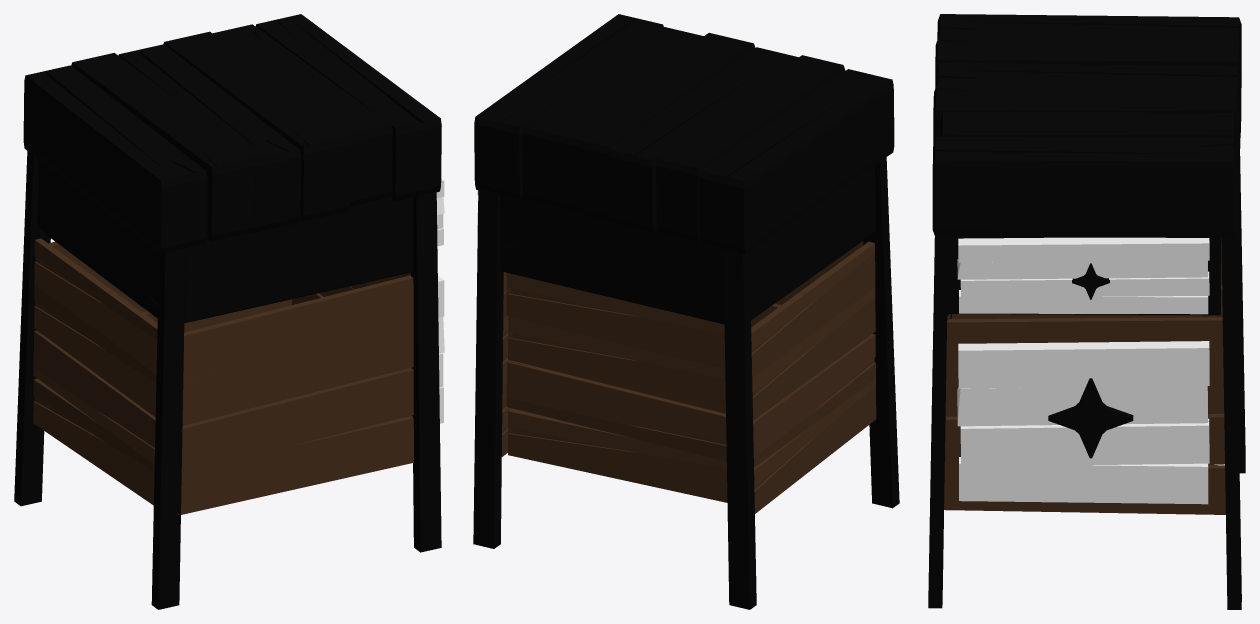
The model's file is Nightstand.fbx.
3 views of the same model, side by side, from view 1: azimuth 30°, elevation 25°; view 2: azimuth 150°, elevation 25°; view 3: azimuth 270°, elevation 25° (orthographic). The views are drawn at different scales.
Parts seen in each view (by area): view 1: Cube.043; view 2: Cube.043; view 3: Cube.043.
Boxes of the visible parts, x1=… form: Cube.043: x1=14, y1=14, x2=444, y2=609; Cube.043: x1=473, y1=14, x2=899, y2=609; Cube.043: x1=928, y1=14, x2=1245, y2=609.
Bounding box in the file's own units: 1.13 × 1.54 × 0.9738.
